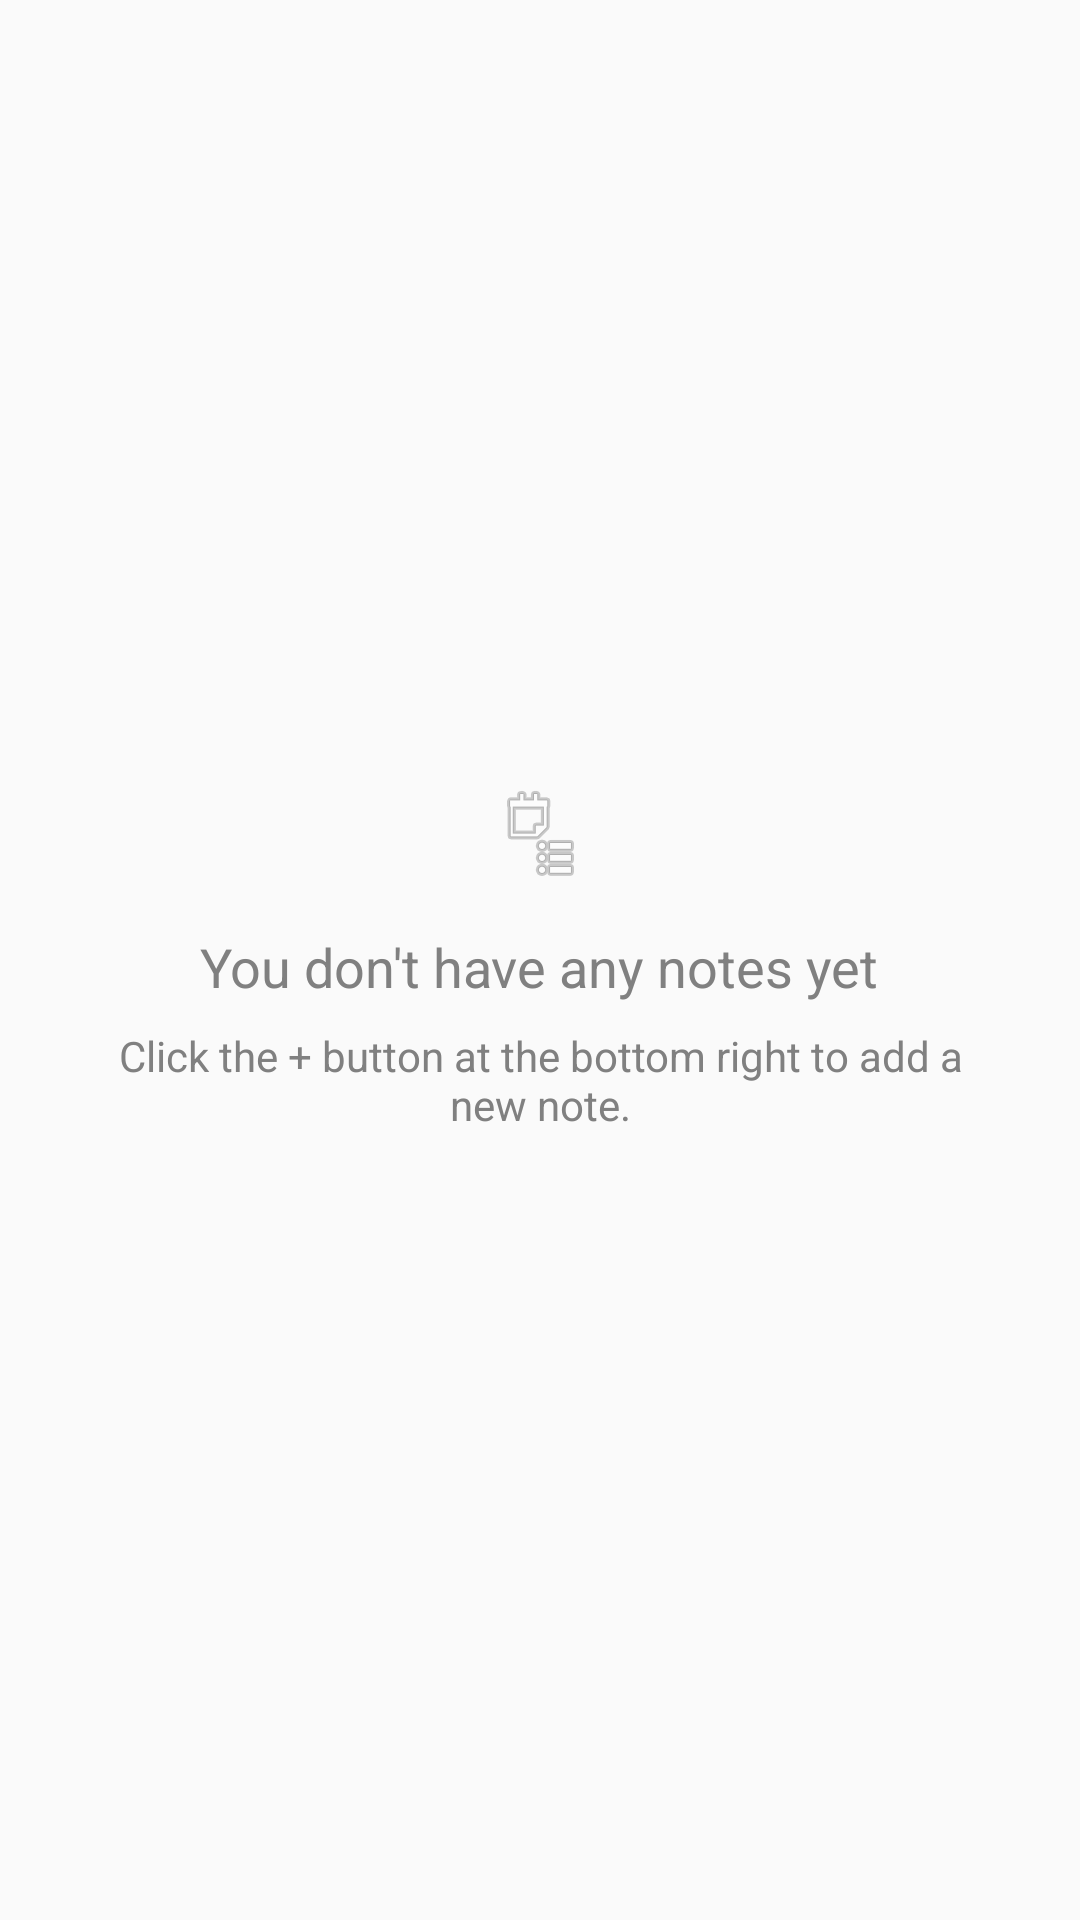

Named icons in this screenshot (1080px×1920px) and their bounding boxes, detection(x1, y1, x2, y2):
agenda: detection(507, 791, 574, 876)
